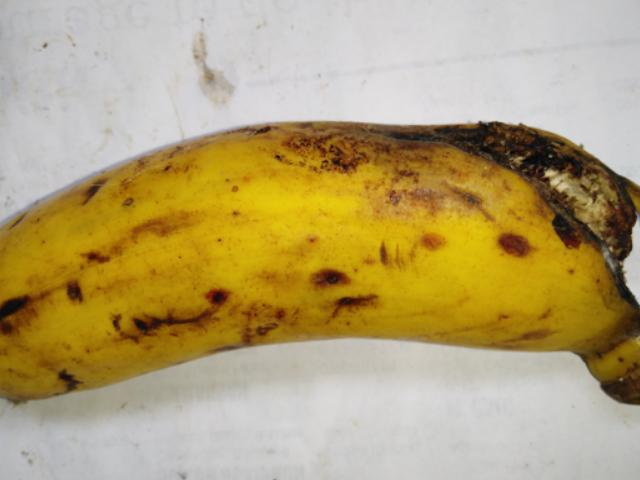ripe: (0, 104, 639, 407)
rotten: (410, 86, 639, 306)
